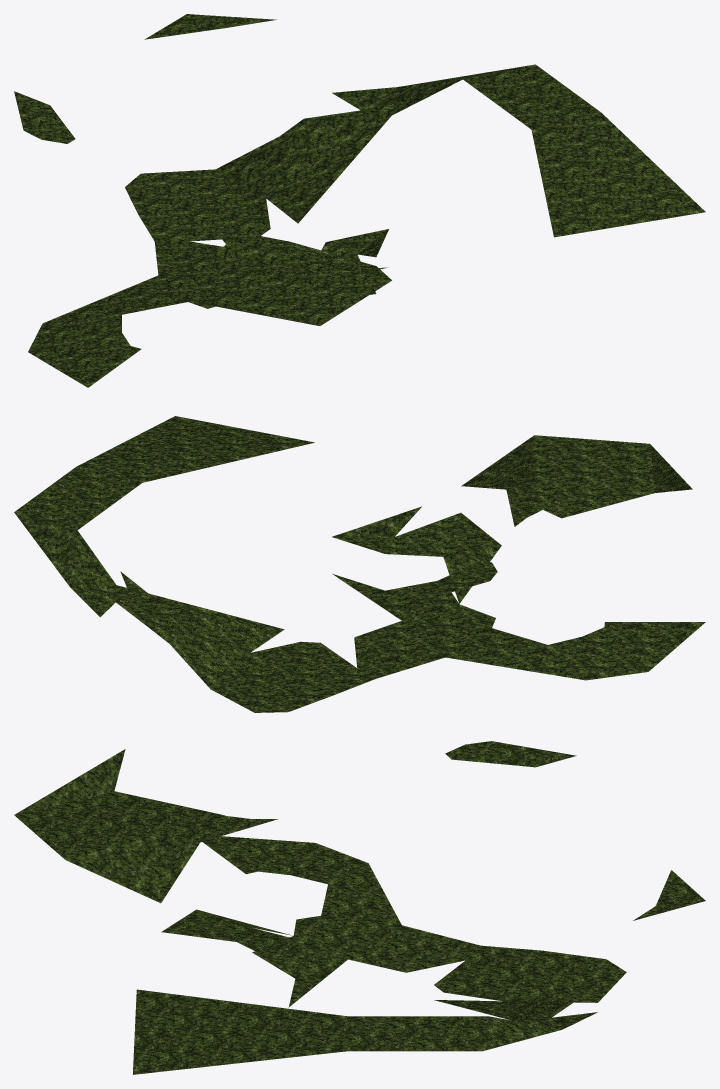
Rendered from forest1grass.obj.
3 views of the same model, one above another, from view 1: azimuth 30°, elevation 25°; view 2: azimuth 150°, elevation 25°; view 3: azimuth 270°, elevation 25° (orthographic). The views are drawn at different scales.
Parts seen in each view (by area): view 1: forest1grass; view 2: forest1grass; view 3: forest1grass.
Part boxes in pixels (bbox=[...]): forest1grass: bbox=[14, 14, 705, 387]; forest1grass: bbox=[14, 416, 705, 712]; forest1grass: bbox=[14, 741, 705, 1074].
Size of the model in its own units: 5.75 by 1.31 by 5.7.
